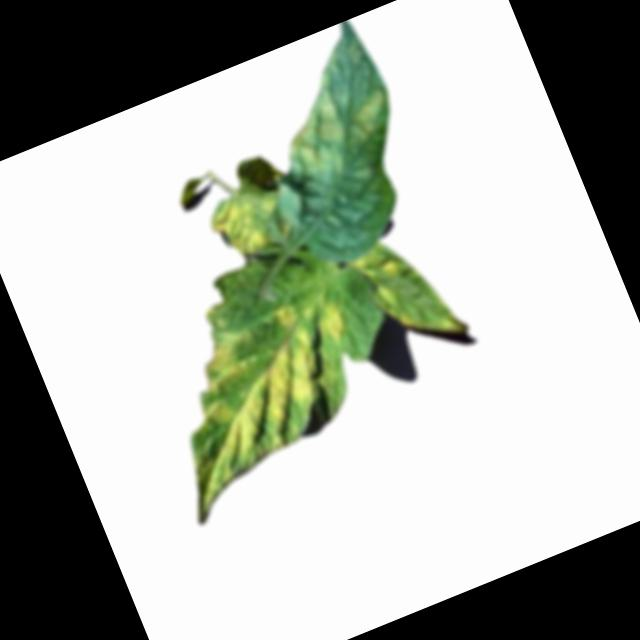Leaf_Mold: (138, 285, 393, 520), (272, 67, 408, 186), (203, 174, 294, 264), (347, 244, 401, 292)
